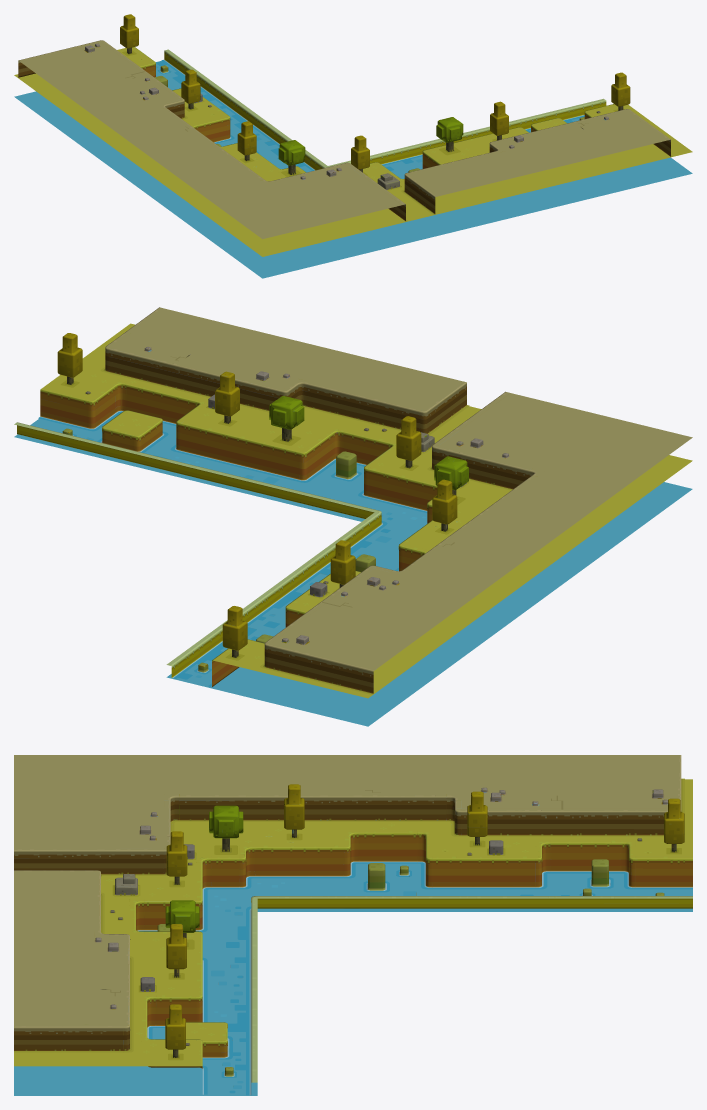
Rendered from C_water2_out_RU.fbx.
3 renders of one model, top to bottom at view 1: azimuth 30°, elevation 25°; view 2: azimuth 150°, elevation 25°; view 3: azimuth 270°, elevation 25°, orthographic. The views are drawn at different scales.
Visible parts, largest first — view 1: C_water2_out_RU; view 2: C_water2_out_RU; view 3: C_water2_out_RU.
Part boxes in pixels (x1,y1,x2,y2): C_water2_out_RU: (14,14,692,278); C_water2_out_RU: (14,307,692,726); C_water2_out_RU: (14,755,692,1095).
Size of the model in its own units: 117 by 15.34 by 117.
